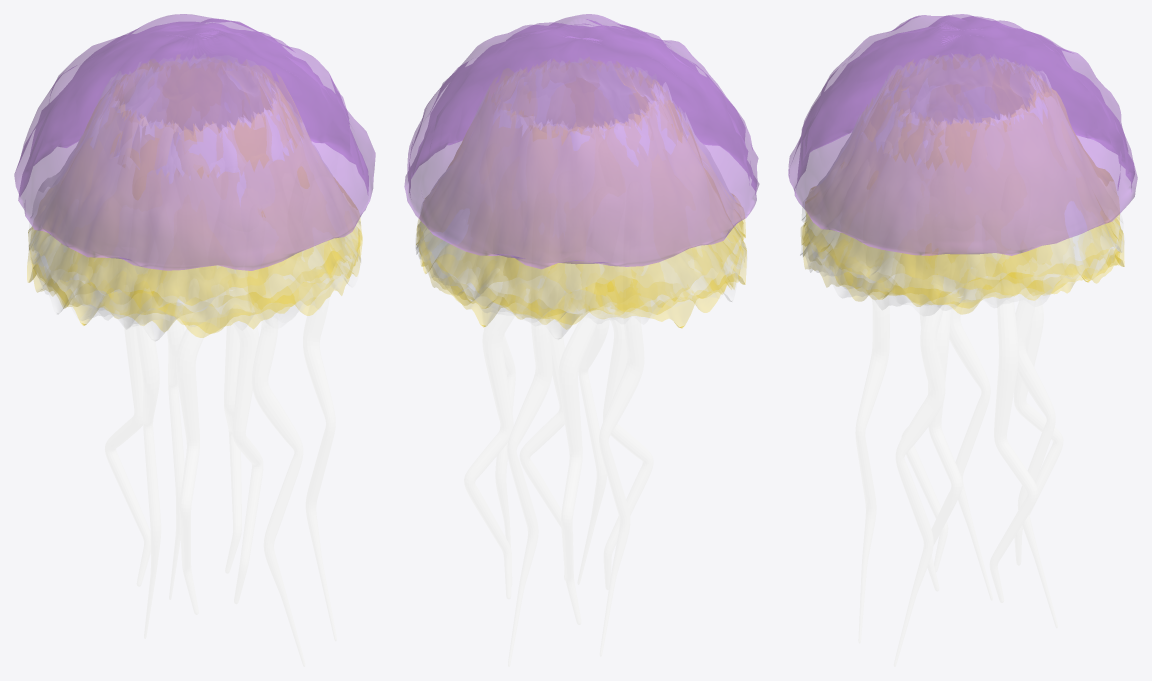
Rendered from Jellyfish.glb.
The picture shows the model from 3 angles, left to right: view 1: azimuth 30°, elevation 25°; view 2: azimuth 150°, elevation 25°; view 3: azimuth 270°, elevation 25°; orthographic projection. The views are drawn at different scales.
Visible parts, largest first — view 1: Sphere, Body, Tentacles; view 2: Sphere, Body, Tentacles; view 3: Sphere, Body, Tentacles.
Part boxes in pixels (left/top/right/bottom): Sphere: left=14, top=14, right=375, bottom=270; Body: left=27, top=56, right=362, bottom=341; Tentacles: left=104, top=154, right=336, bottom=666; Sphere: left=404, top=14, right=759, bottom=268; Body: left=415, top=58, right=747, bottom=339; Tentacles: left=464, top=139, right=653, bottom=666; Sphere: left=788, top=14, right=1137, bottom=255; Body: left=800, top=54, right=1124, bottom=315; Tentacles: left=855, top=146, right=1063, bottom=666.
Bounding box in the file's own units: 0.6142 × 1.15 × 0.6168.
